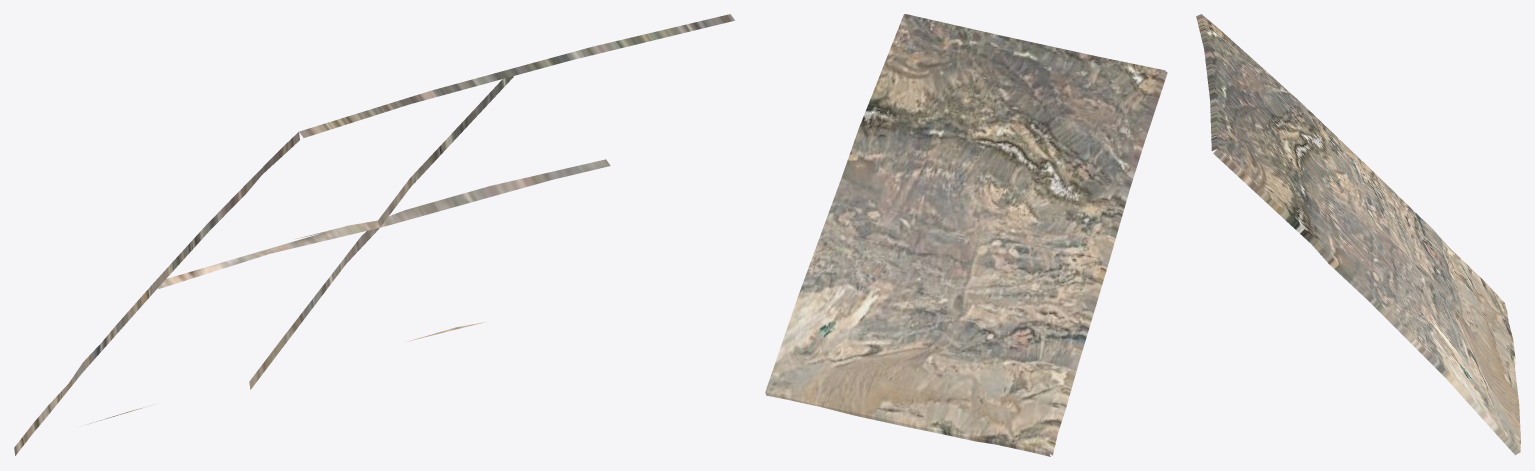
3 renders of one model, left to right at view 1: azimuth 30°, elevation 25°; view 2: azimuth 150°, elevation 25°; view 3: azimuth 270°, elevation 25°, orthographic. The views are drawn at different scales.
Bounding box in the file's own units: 492567 × 473263 × 451294.
Materials: 1 (1 with a texture image).
